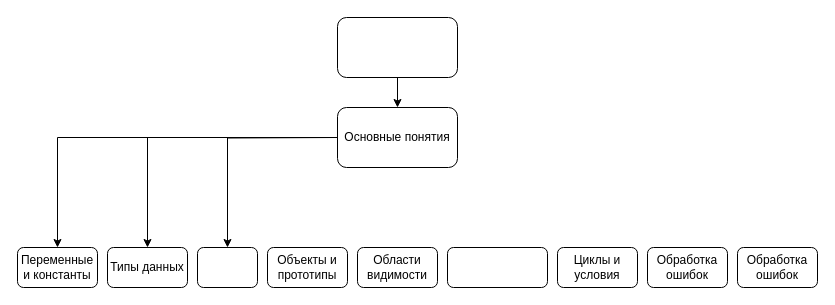
Some shapes in this 835 by 305 pixel diagram are drawn without their labels. Each missing label, with the centre of its shape:
JavaScript: the point at 397,47
Асинхронность: the point at 497,267
Функции: the point at 227,267
